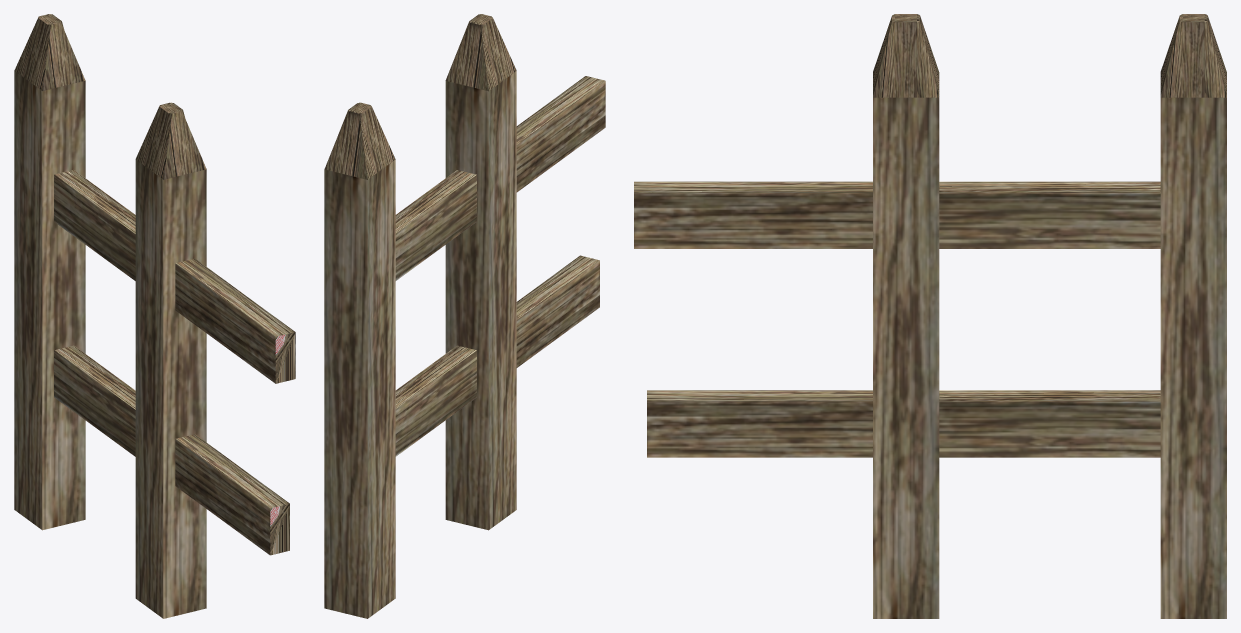
The model's file is fence.obj.
3 views of the same model, side by side, from view 1: azimuth 30°, elevation 25°; view 2: azimuth 150°, elevation 25°; view 3: azimuth 270°, elevation 25° (orthographic). The views are drawn at different scales.
Visible parts, largest first — view 1: Cube, Cube.001_Cube.002, Cube.002_Cube.004, Cube.003; view 2: Cube.001_Cube.002, Cube, Cube.002_Cube.004, Cube.003; view 3: Cube.001_Cube.002, Cube, Cube.002_Cube.004, Cube.003.
Part boxes in pixels (box(x1,y1,x2,y2)): Cube: box(135, 102, 206, 618); Cube.001_Cube.002: box(14, 14, 85, 530); Cube.002_Cube.004: box(54, 170, 295, 383); Cube.003: box(54, 345, 289, 555); Cube.001_Cube.002: box(324, 102, 395, 618); Cube: box(445, 14, 516, 530); Cube.002_Cube.004: box(395, 76, 605, 280); Cube.003: box(395, 255, 599, 456); Cube.001_Cube.002: box(1160, 14, 1226, 618); Cube: box(873, 14, 939, 618); Cube.002_Cube.004: box(634, 181, 1160, 248); Cube.003: box(647, 390, 1160, 457).
Size of the model in its own units: 0.2062 by 2.26 by 2.06.
1 material, 1 textured.
